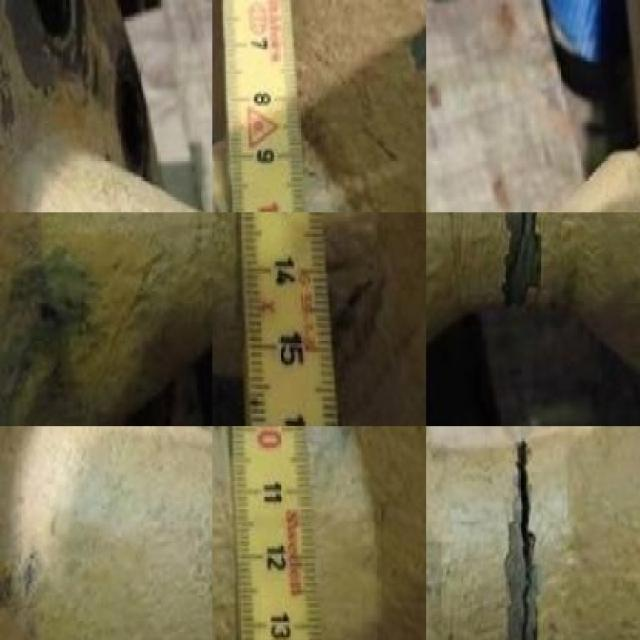crack: (515, 438, 531, 640), (519, 211, 528, 232)
